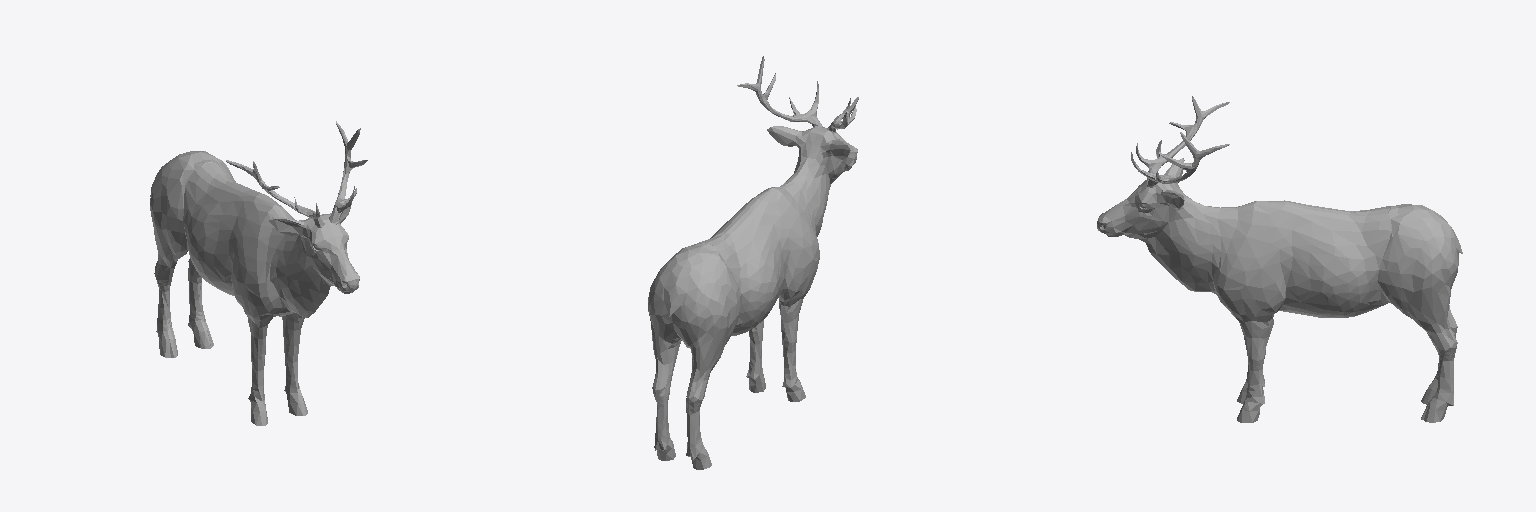
The model's file is elk.obj.
3 views of the same model, side by side, from view 1: azimuth 30°, elevation 25°; view 2: azimuth 150°, elevation 25°; view 3: azimuth 270°, elevation 25° (orthographic).
Visible parts, largest first — view 1: 3XCZUVEH8MH1NBBY84AHWOZF9; view 2: 3XCZUVEH8MH1NBBY84AHWOZF9; view 3: 3XCZUVEH8MH1NBBY84AHWOZF9.
Part boxes in pixels (x1,y1,x2,y2): 3XCZUVEH8MH1NBBY84AHWOZF9: (150,121,367,425); 3XCZUVEH8MH1NBBY84AHWOZF9: (648,56,858,469); 3XCZUVEH8MH1NBBY84AHWOZF9: (1097,96,1462,422).
Bounding box in the file's own units: 0.8854 × 2.27 × 2.5.